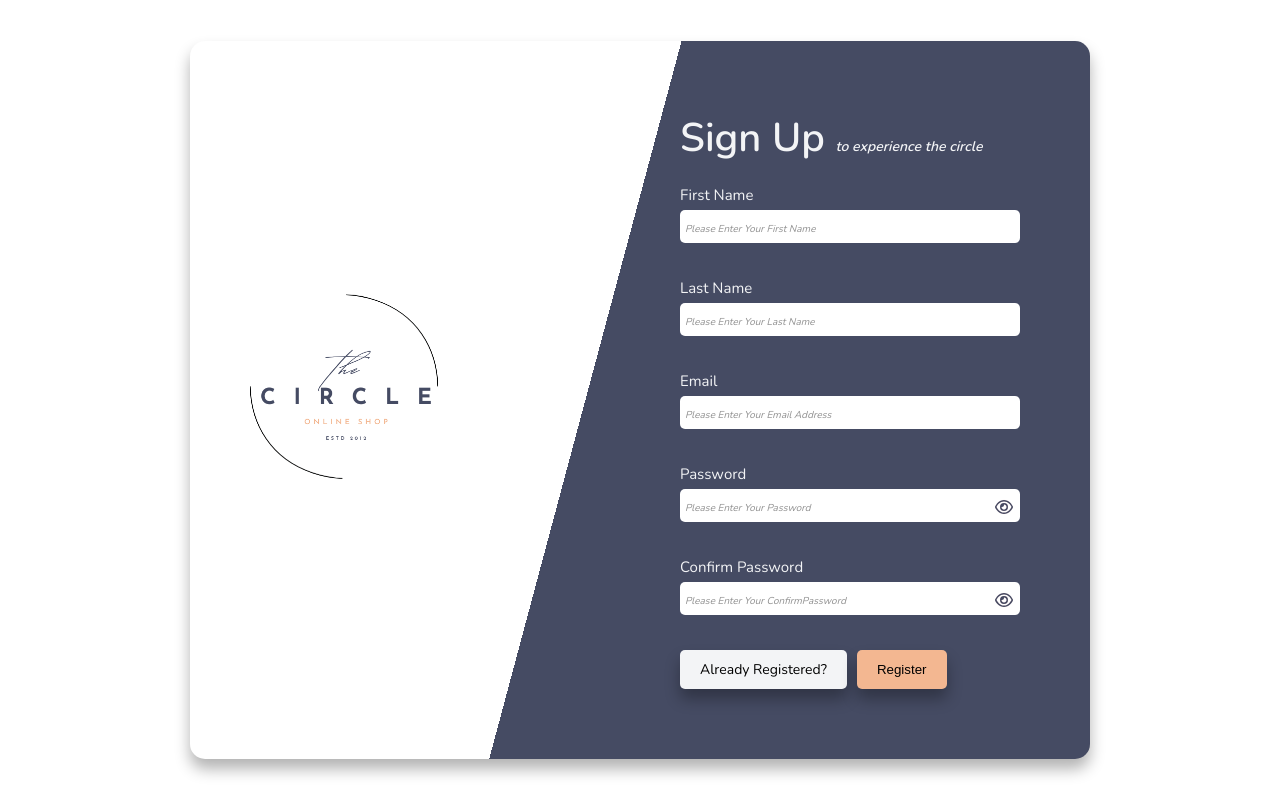
Sign Up Tests › Submiting form when inputs are empty shows errors
Click the button "Register".
click(902, 670)  # box [857,650,946,689]
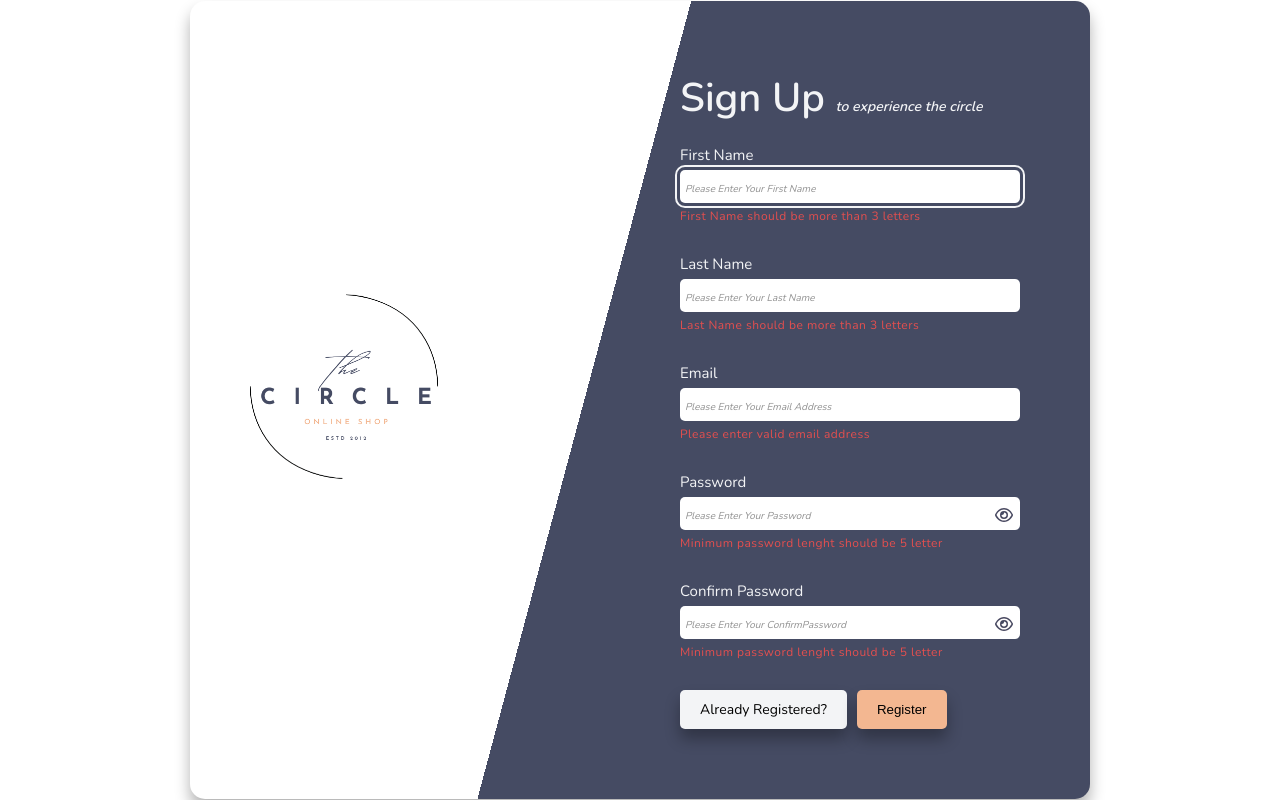
Expected: the text "Please enter valid email address" is shown, [680,426,870,442]
Expected: the text "Last Name should be more than 3 letters" is shown, [680,317,919,333]
Expected: the text "First Name should be more than 3 letters" is shown, [680,208,921,224]
